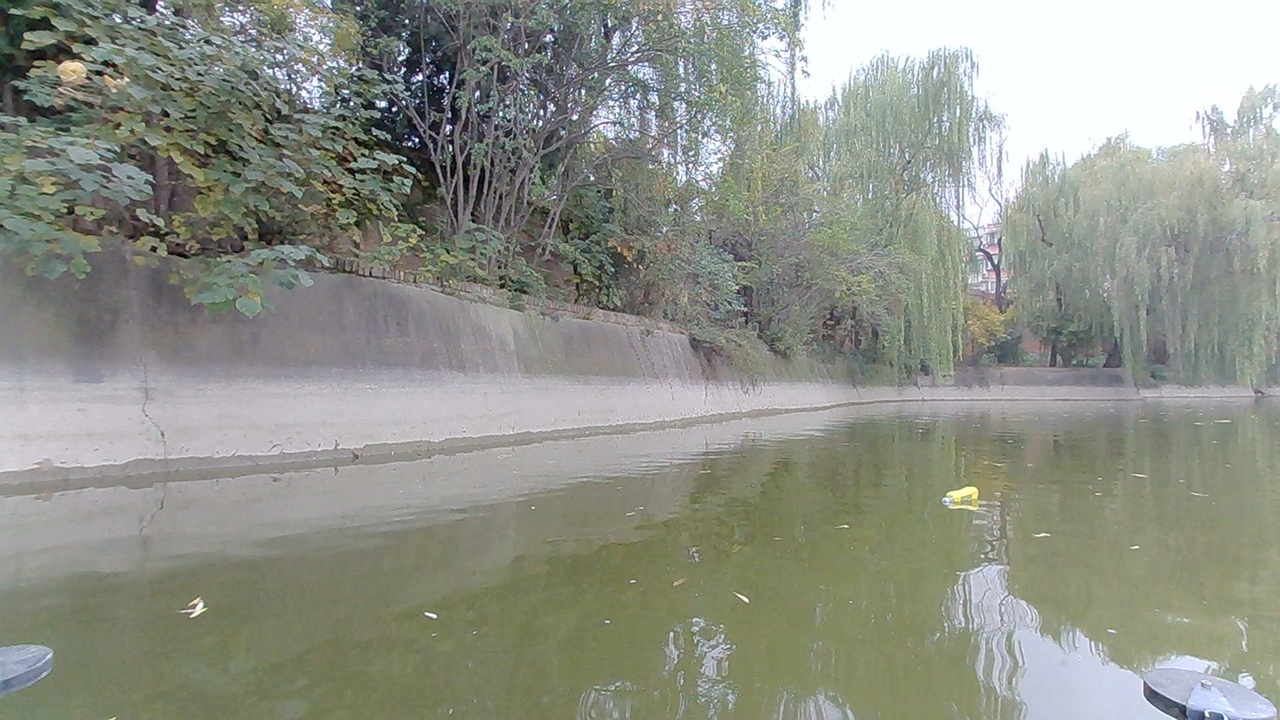bottle: (949, 486, 983, 509)
